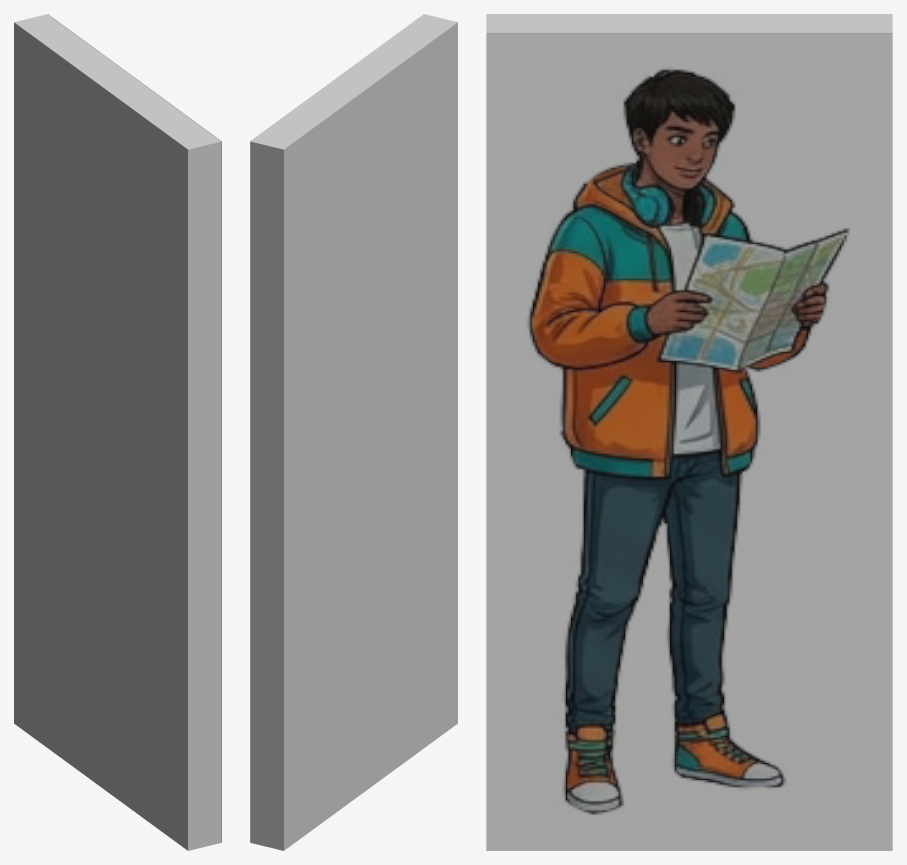
3 views of the same model, side by side, from view 1: azimuth 30°, elevation 25°; view 2: azimuth 150°, elevation 25°; view 3: azimuth 270°, elevation 25° (orthographic). The views are drawn at different scales.
Parts seen in each view (by area): view 1: 立方体, 平面; view 2: 立方体, 平面; view 3: 平面, 立方体.
Part boxes in pixels (<box>): 立方体: <box>14,14,221,850</box>; 平面: <box>48,14,221,842</box>; 立方体: <box>250,14,457,850</box>; 平面: <box>250,14,423,842</box>; 平面: <box>486,33,892,850</box>; 立方体: <box>486,14,892,33</box>.
Size of the model in its own units: 0.0101 by 0.09 by 0.2.
1 material, 1 textured.
